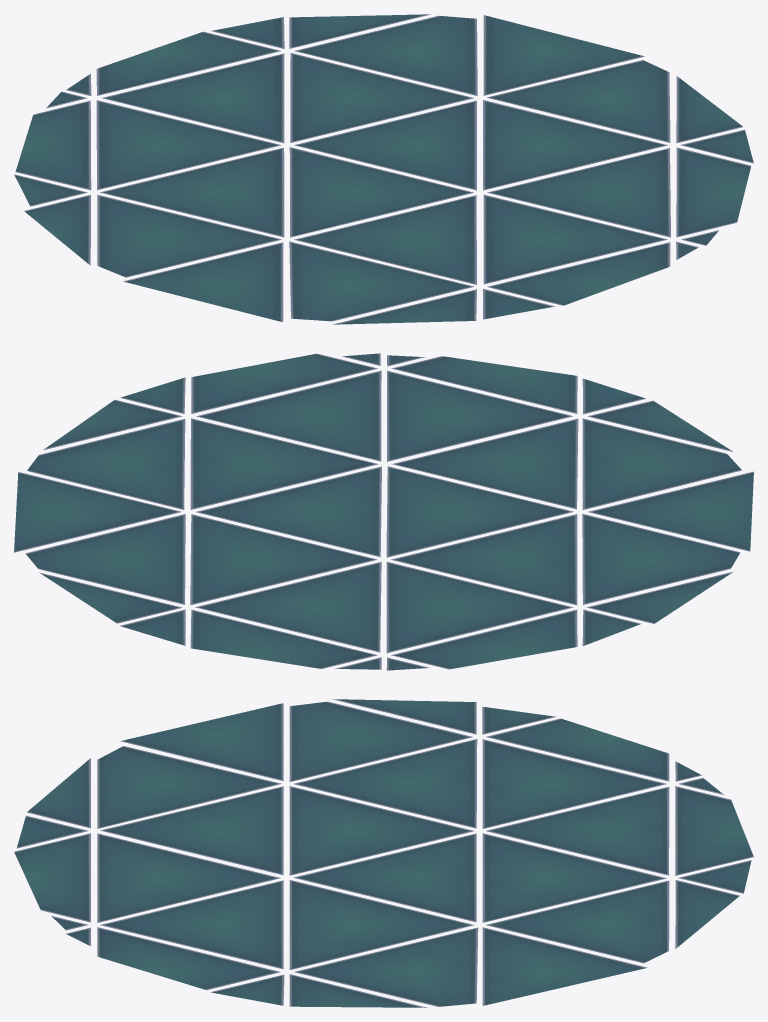
File: mesh_1002_jxl_001_1.FBX
3 renders of one model, top to bottom at view 1: azimuth 30°, elevation 25°; view 2: azimuth 150°, elevation 25°; view 3: azimuth 270°, elevation 25°, orthographic.
Parts seen in each view (by area): view 1: mesh_1002_jxl_001_1; view 2: mesh_1002_jxl_001_1; view 3: mesh_1002_jxl_001_1.
Part boxes in pixels (x1,y1,x2,y2): mesh_1002_jxl_001_1: (14, 14, 753, 324); mesh_1002_jxl_001_1: (14, 353, 753, 670); mesh_1002_jxl_001_1: (14, 699, 753, 1007).
Size of the model in its own units: 1620 by 0.000163 by 1641.
